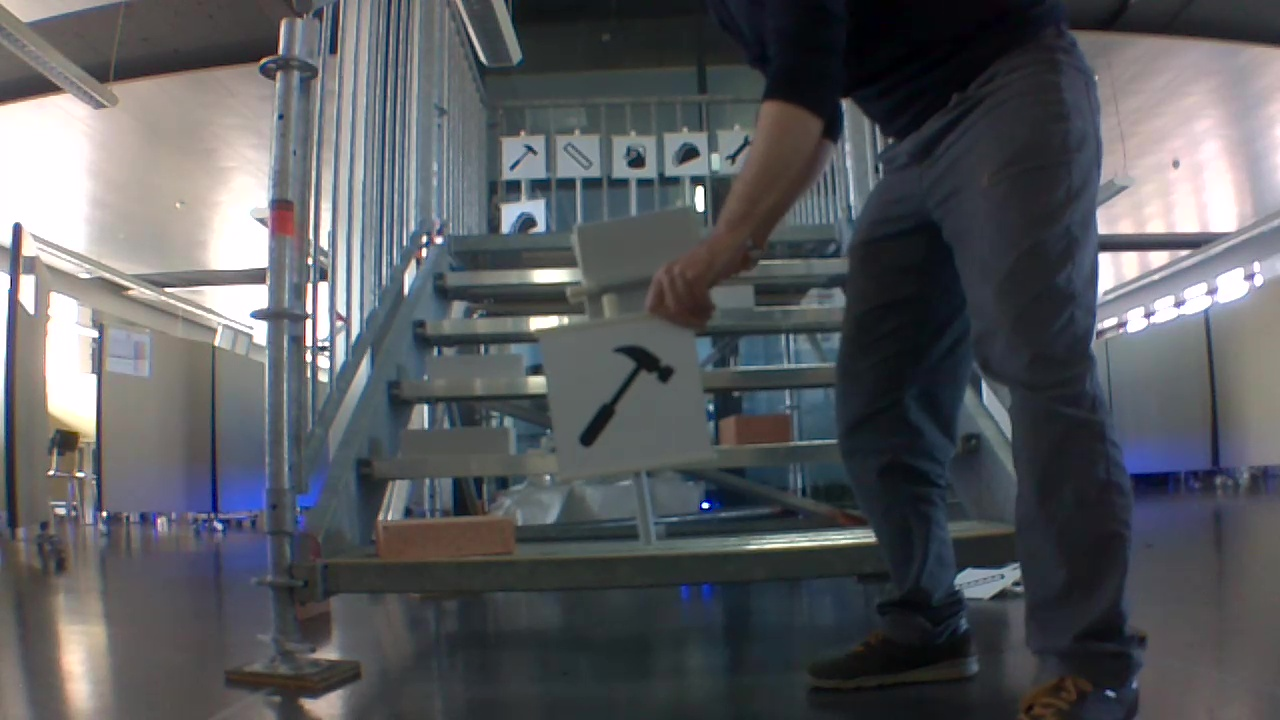brick: (376, 515, 518, 556), (405, 422, 517, 456), (420, 352, 525, 384), (722, 413, 789, 443), (708, 285, 756, 309)
bucket: (621, 138, 650, 171)
hammer: (572, 342, 676, 452), (507, 142, 538, 172)
ruler: (560, 140, 596, 172)
taco: (508, 209, 541, 236), (673, 141, 704, 168)
wrench: (727, 135, 752, 165)
